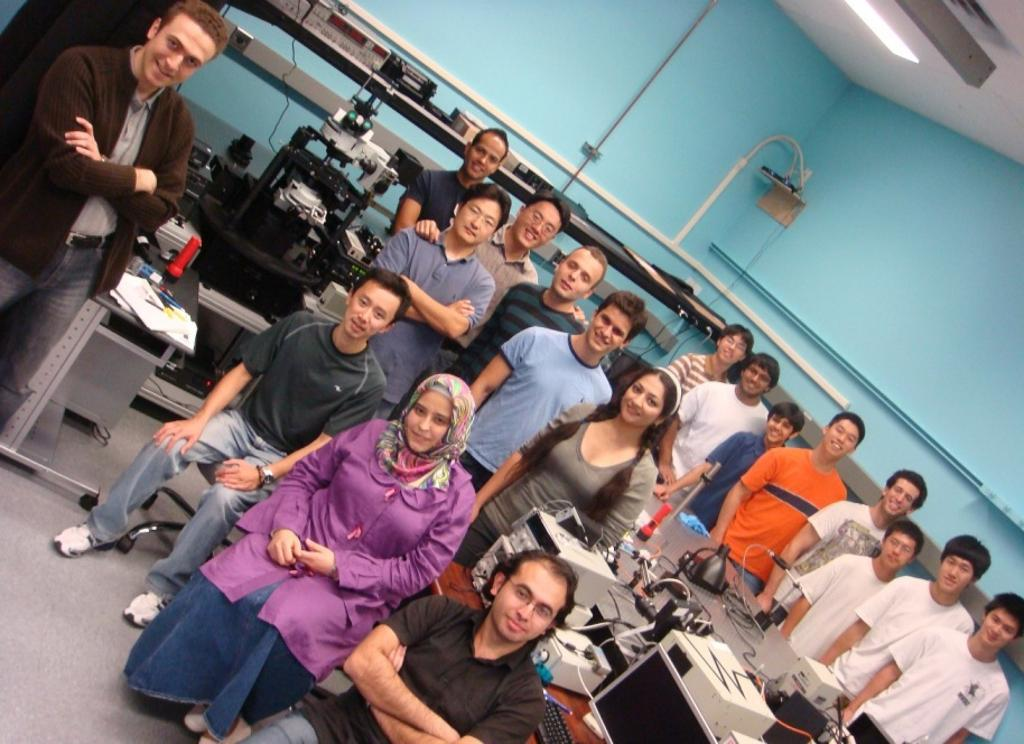face: (493, 574, 561, 643), (146, 27, 208, 88), (407, 395, 452, 453), (347, 291, 393, 338), (624, 381, 663, 425), (516, 209, 560, 248), (456, 203, 498, 243), (589, 311, 628, 352), (555, 256, 593, 298), (468, 140, 504, 177), (983, 616, 1018, 649), (940, 559, 972, 591), (883, 536, 915, 568), (884, 485, 916, 515), (827, 424, 857, 456), (744, 364, 771, 395), (720, 337, 747, 364), (768, 414, 793, 442)
